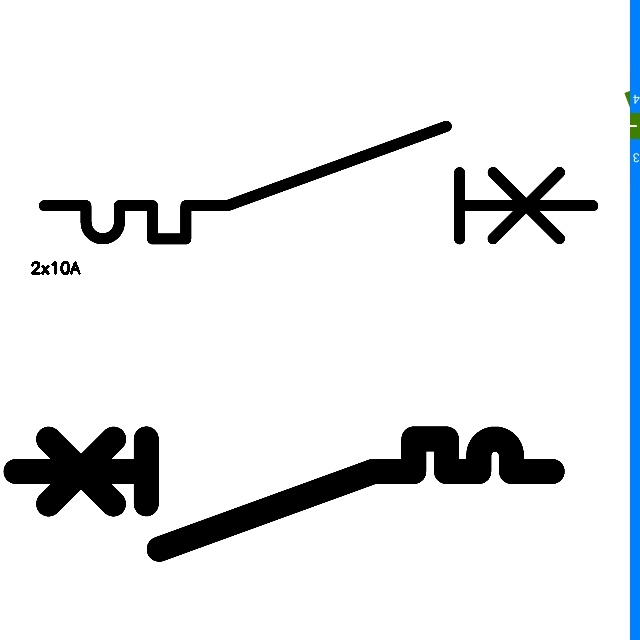interruptor_termomagnetico: (30, 112, 606, 253), (2, 425, 566, 563)
